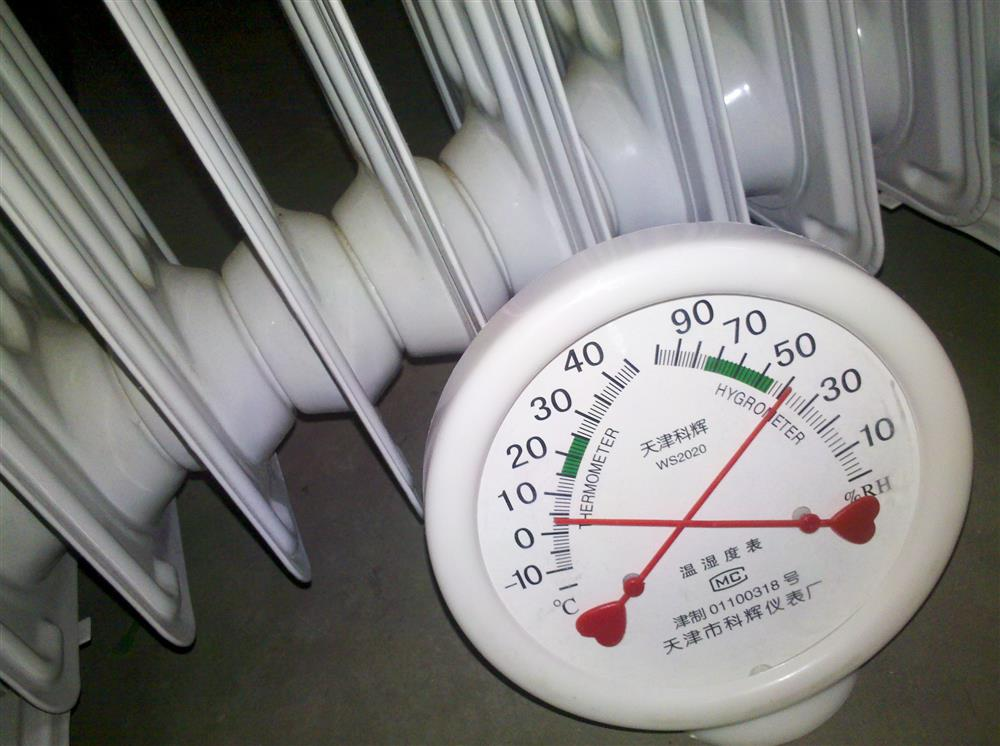Thermometer: (403, 222, 970, 727)
